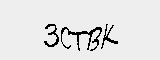В: (84, 22, 102, 52)
З: (42, 23, 61, 49)
К: (99, 22, 120, 49)
С: (59, 26, 73, 51)
Т: (69, 29, 86, 51)
